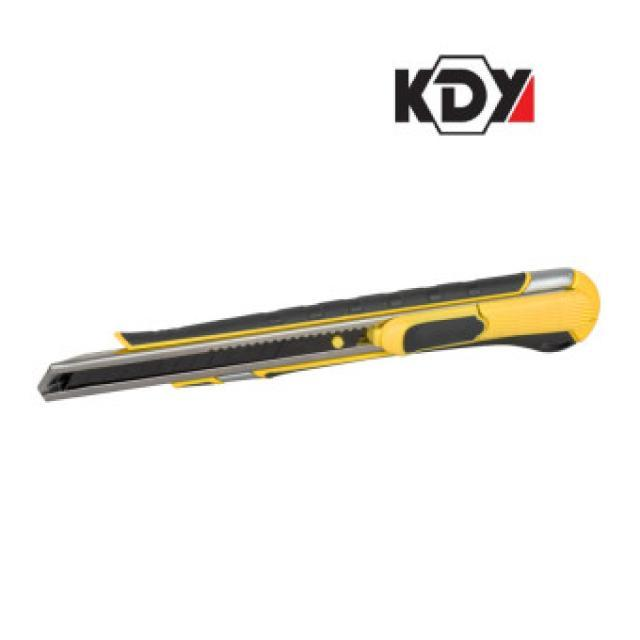cutter: (33, 253, 602, 422)
